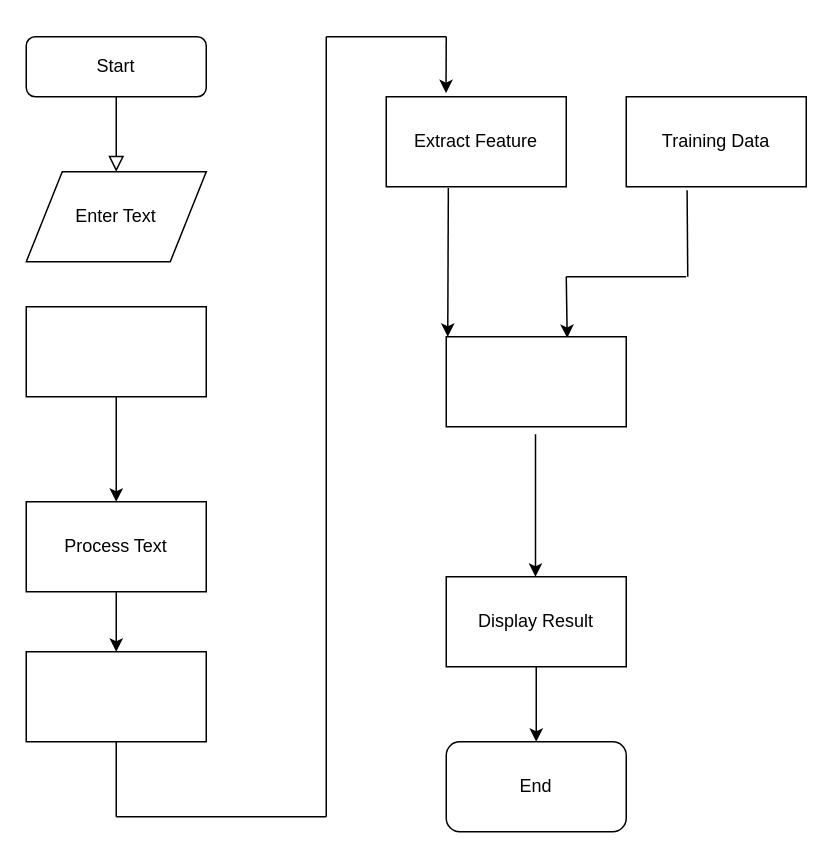
The diagram is 833 pixels wide and 858 high, and some of its shapes have lost their labels. The centre of each missing label's shape, as x and y in pixels:
CNN Algorithm for text recognition: (x=535, y=381)
Get Feature vector: (x=115, y=696)
Store text in database: (x=115, y=351)
